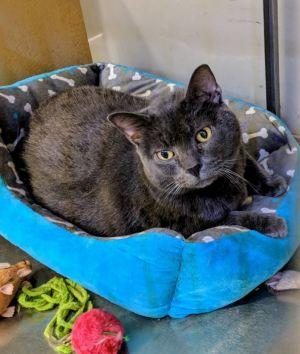rblue: (106, 58, 245, 198)
